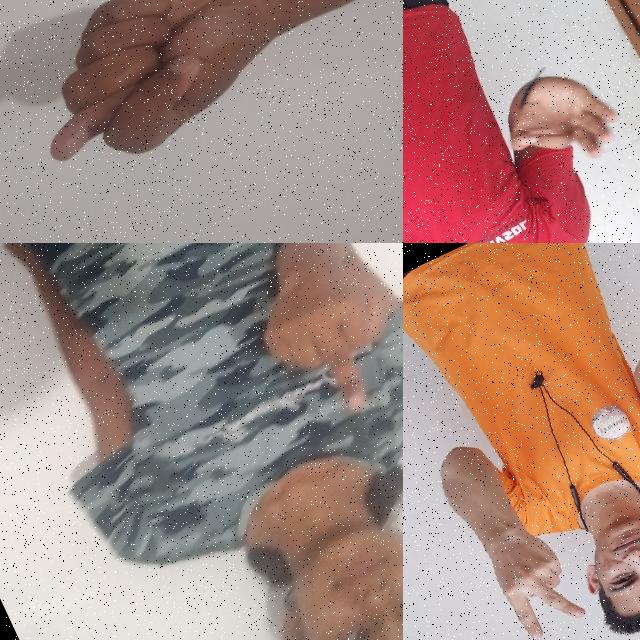Dulya: (0, 0, 316, 208)
Middle Finger: (219, 243, 403, 451)
Okay: (482, 46, 640, 197)
Reversed Victory: (466, 495, 601, 640)
